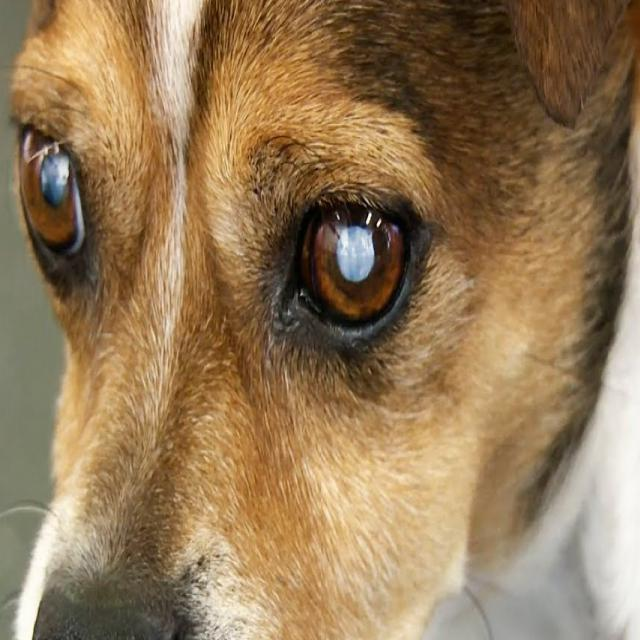eye: (278, 181, 422, 342), (13, 118, 94, 272)
